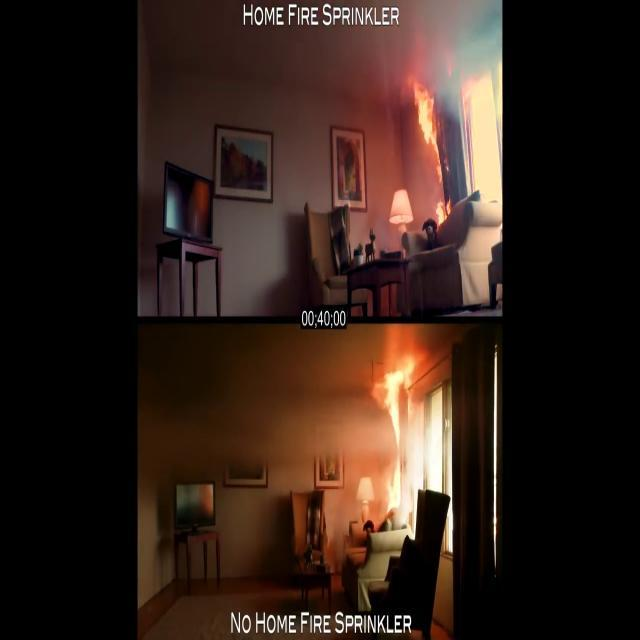Fire: (409, 71, 448, 221), (371, 353, 419, 428)
